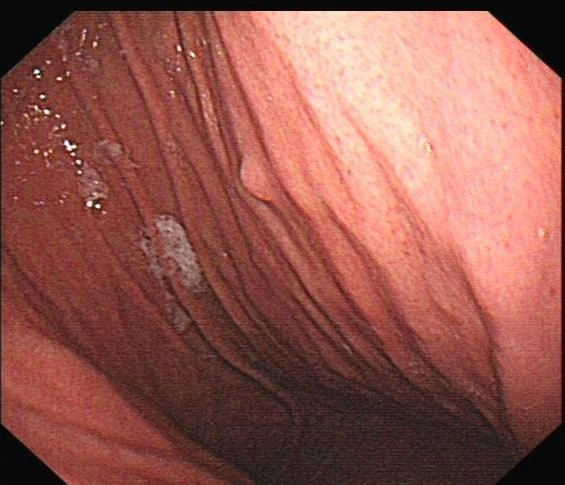Polyp: (230, 153, 285, 215)
